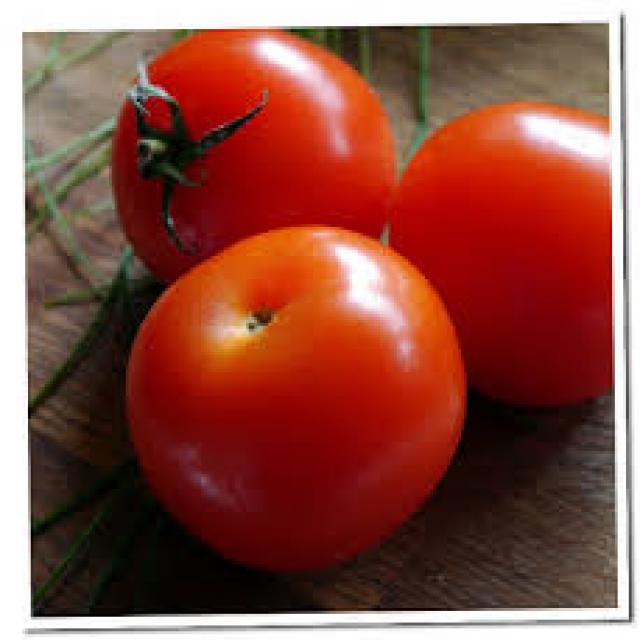organic waste: (123, 230, 464, 564), (109, 20, 391, 274), (388, 99, 610, 407)
